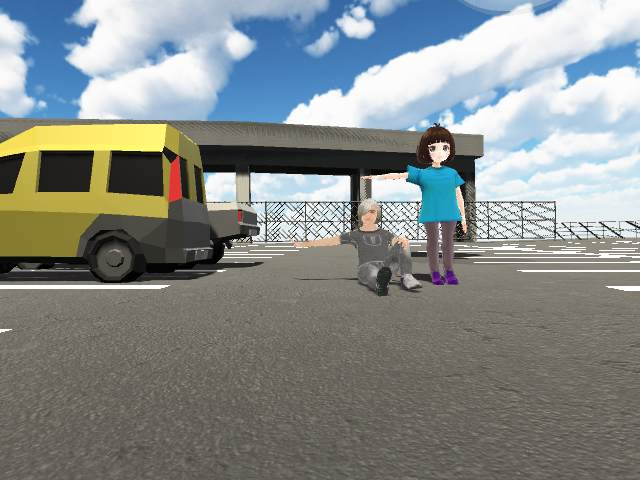doubleP_left: (296, 125, 472, 297)
